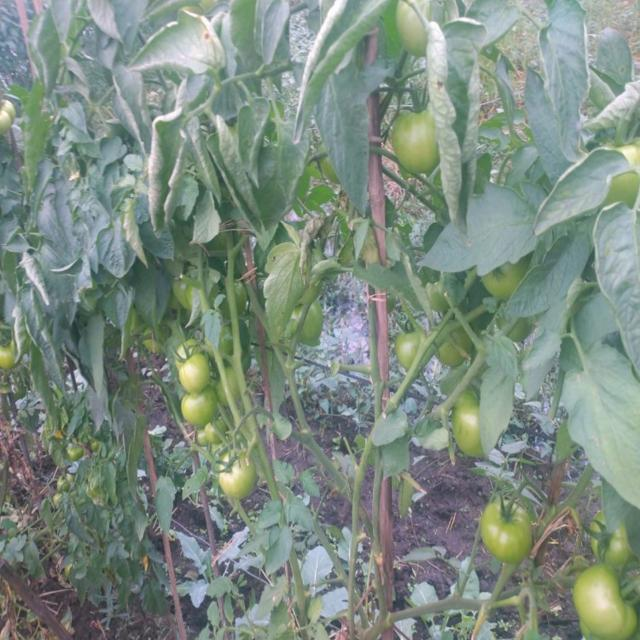tomato: (574, 567, 640, 640), (391, 107, 439, 179), (482, 501, 534, 563), (587, 518, 630, 571), (455, 400, 483, 468), (220, 454, 256, 502), (482, 265, 527, 303), (181, 354, 214, 392), (394, 322, 419, 367), (183, 394, 216, 428), (405, 9, 432, 50), (445, 334, 474, 372), (618, 149, 640, 197), (305, 306, 327, 348), (174, 273, 197, 311), (200, 420, 228, 451), (425, 282, 446, 317), (1, 342, 16, 372), (69, 444, 89, 464), (57, 478, 71, 494), (52, 491, 64, 509)
